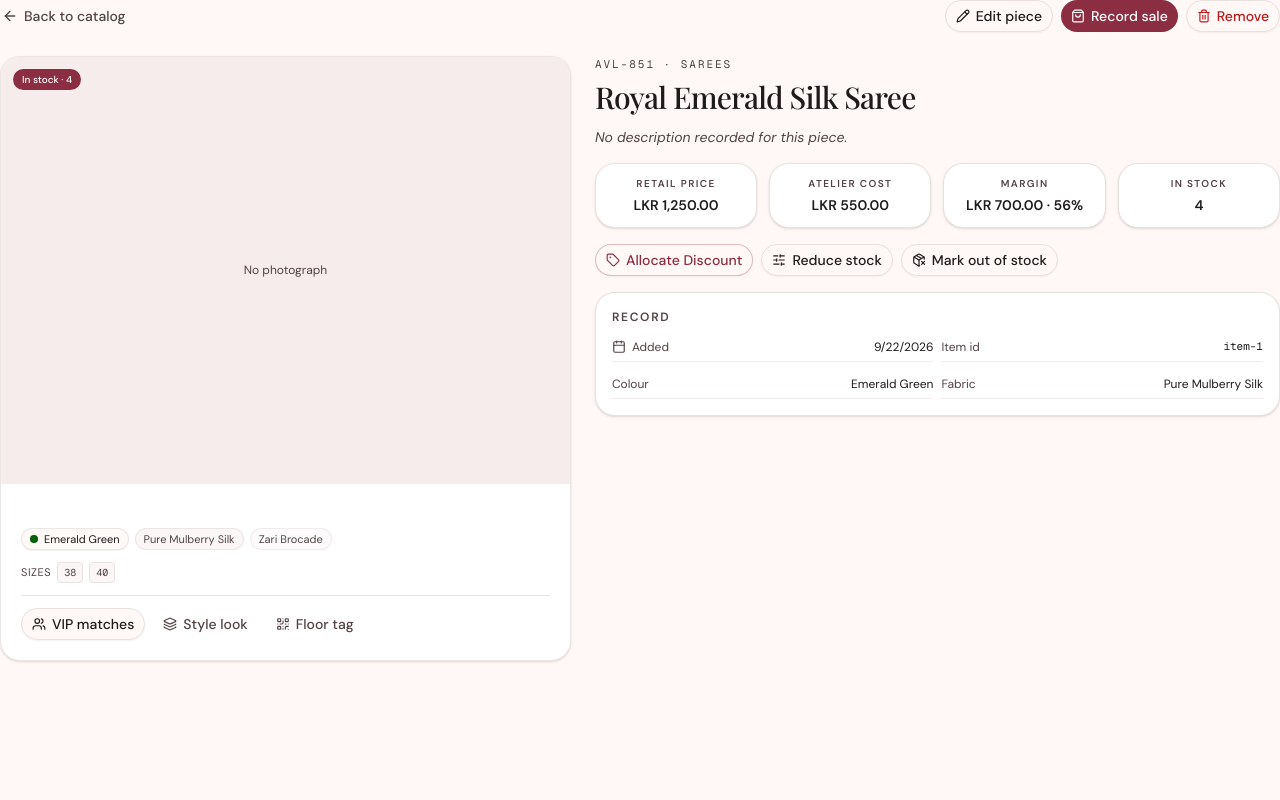
Test: CatalogPanel piece information page › records a counter sale and applies the server receipt to the piece
The width and height of the screenshot is (1280, 800).
Expected: the heading "Royal Emerald Silk Saree" is shown, [595,76,916,116]
Click the button "Record sale".
click(1119, 16)  # box [1061,0,1178,32]
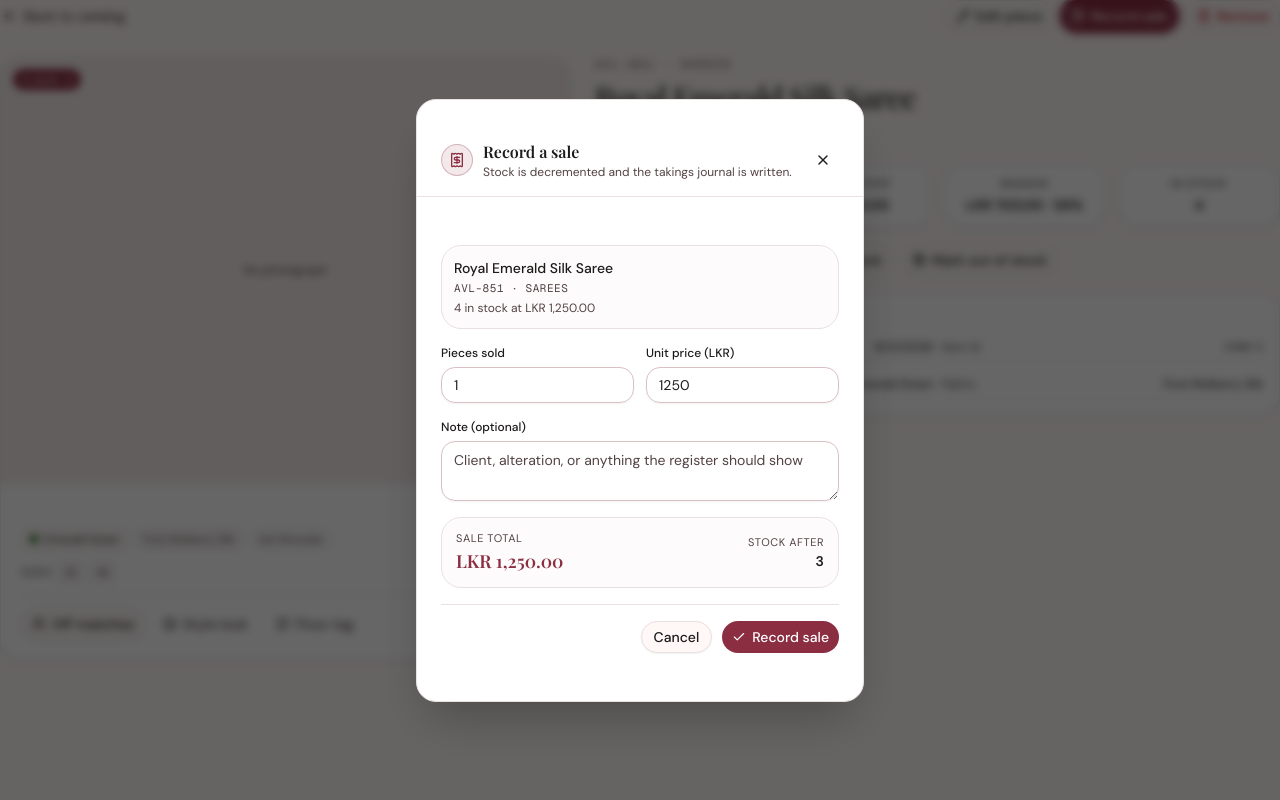
Replace the text in the number field labelled "Pieces sold" with "2" at (538, 385), box [441,367,634,403]
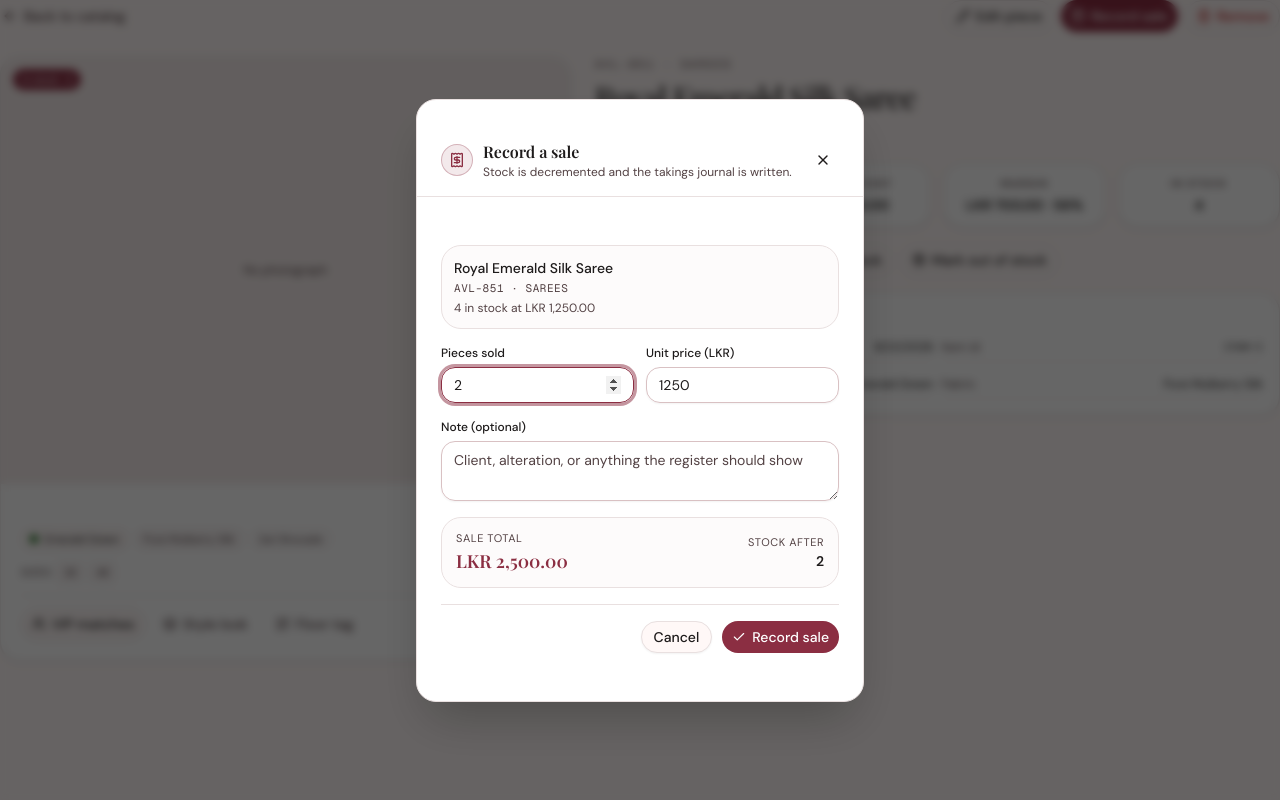
Click the button "Record sale".
click(781, 636)  # box [722,620,839,652]
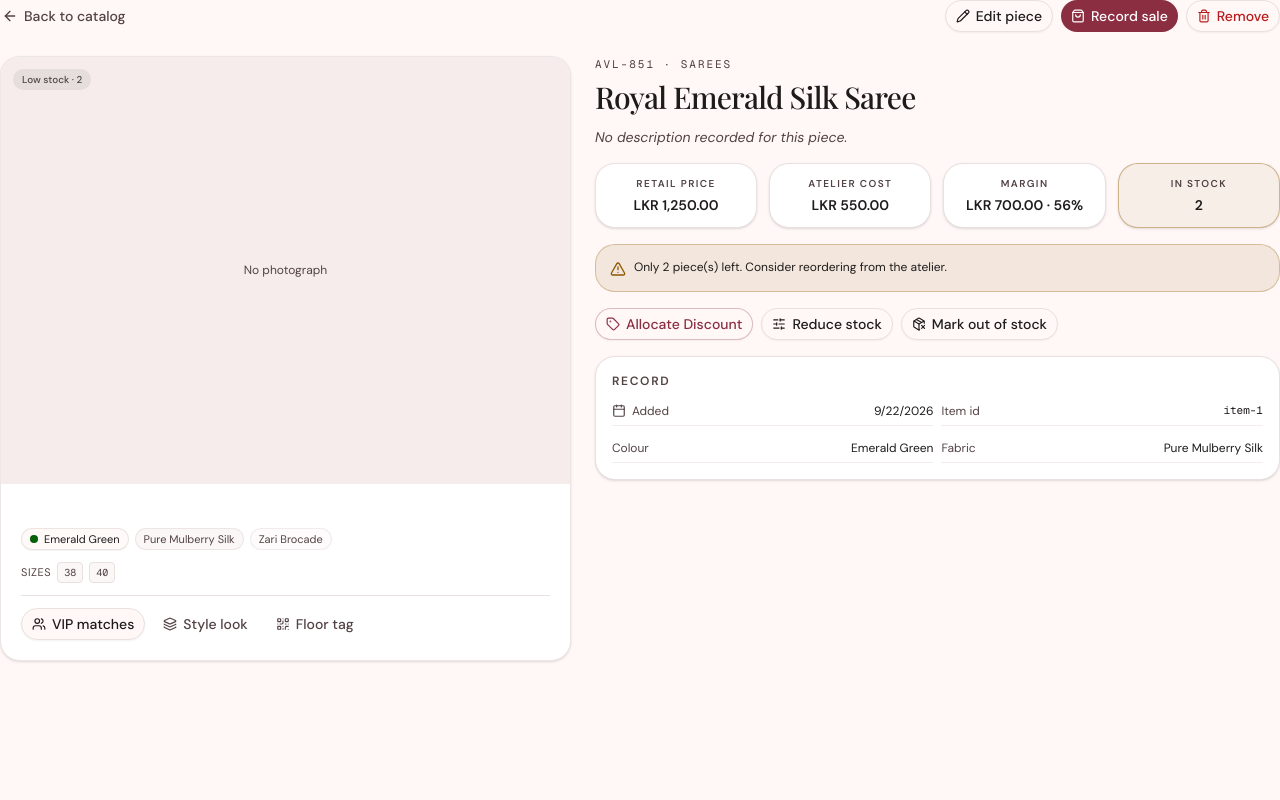
Expected: the text "item-1" is shown, [1223,403,1263,418]
Expected: the text "Low stock · 2" is shown, [13,69,91,90]
